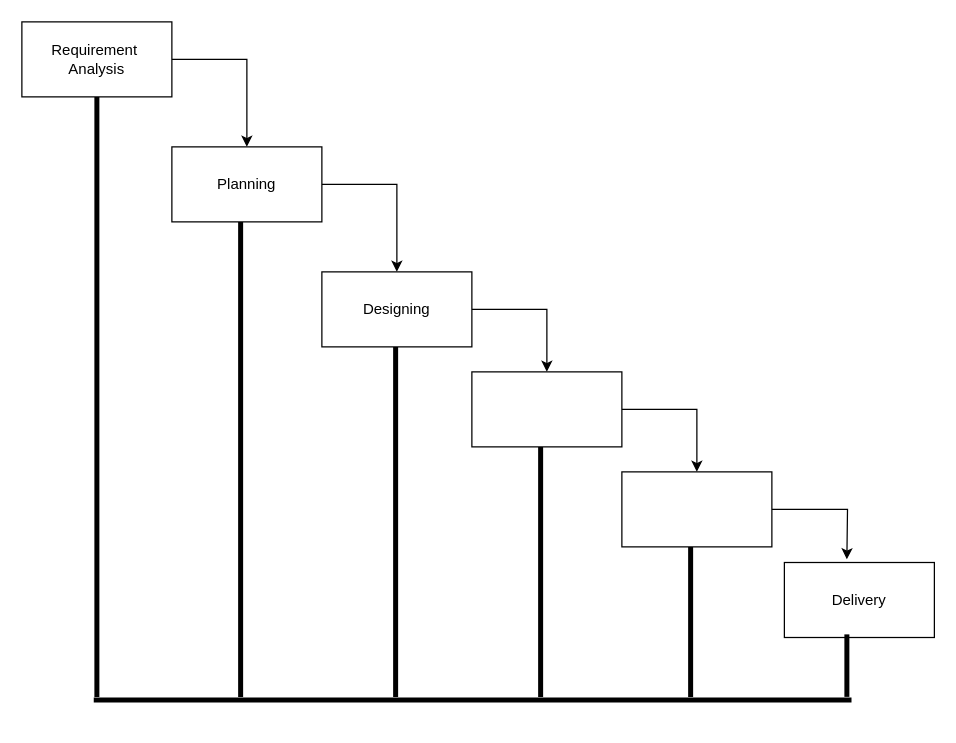
This 956x743 diagram has some shape labels left out. Each missing label, with the centre of its shape:
Implementation: the point at 546,409
Testing & Maintenance: the point at 696,509
